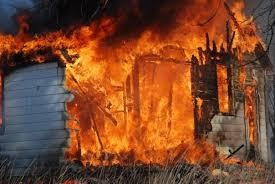fire: (55, 8, 264, 170)
